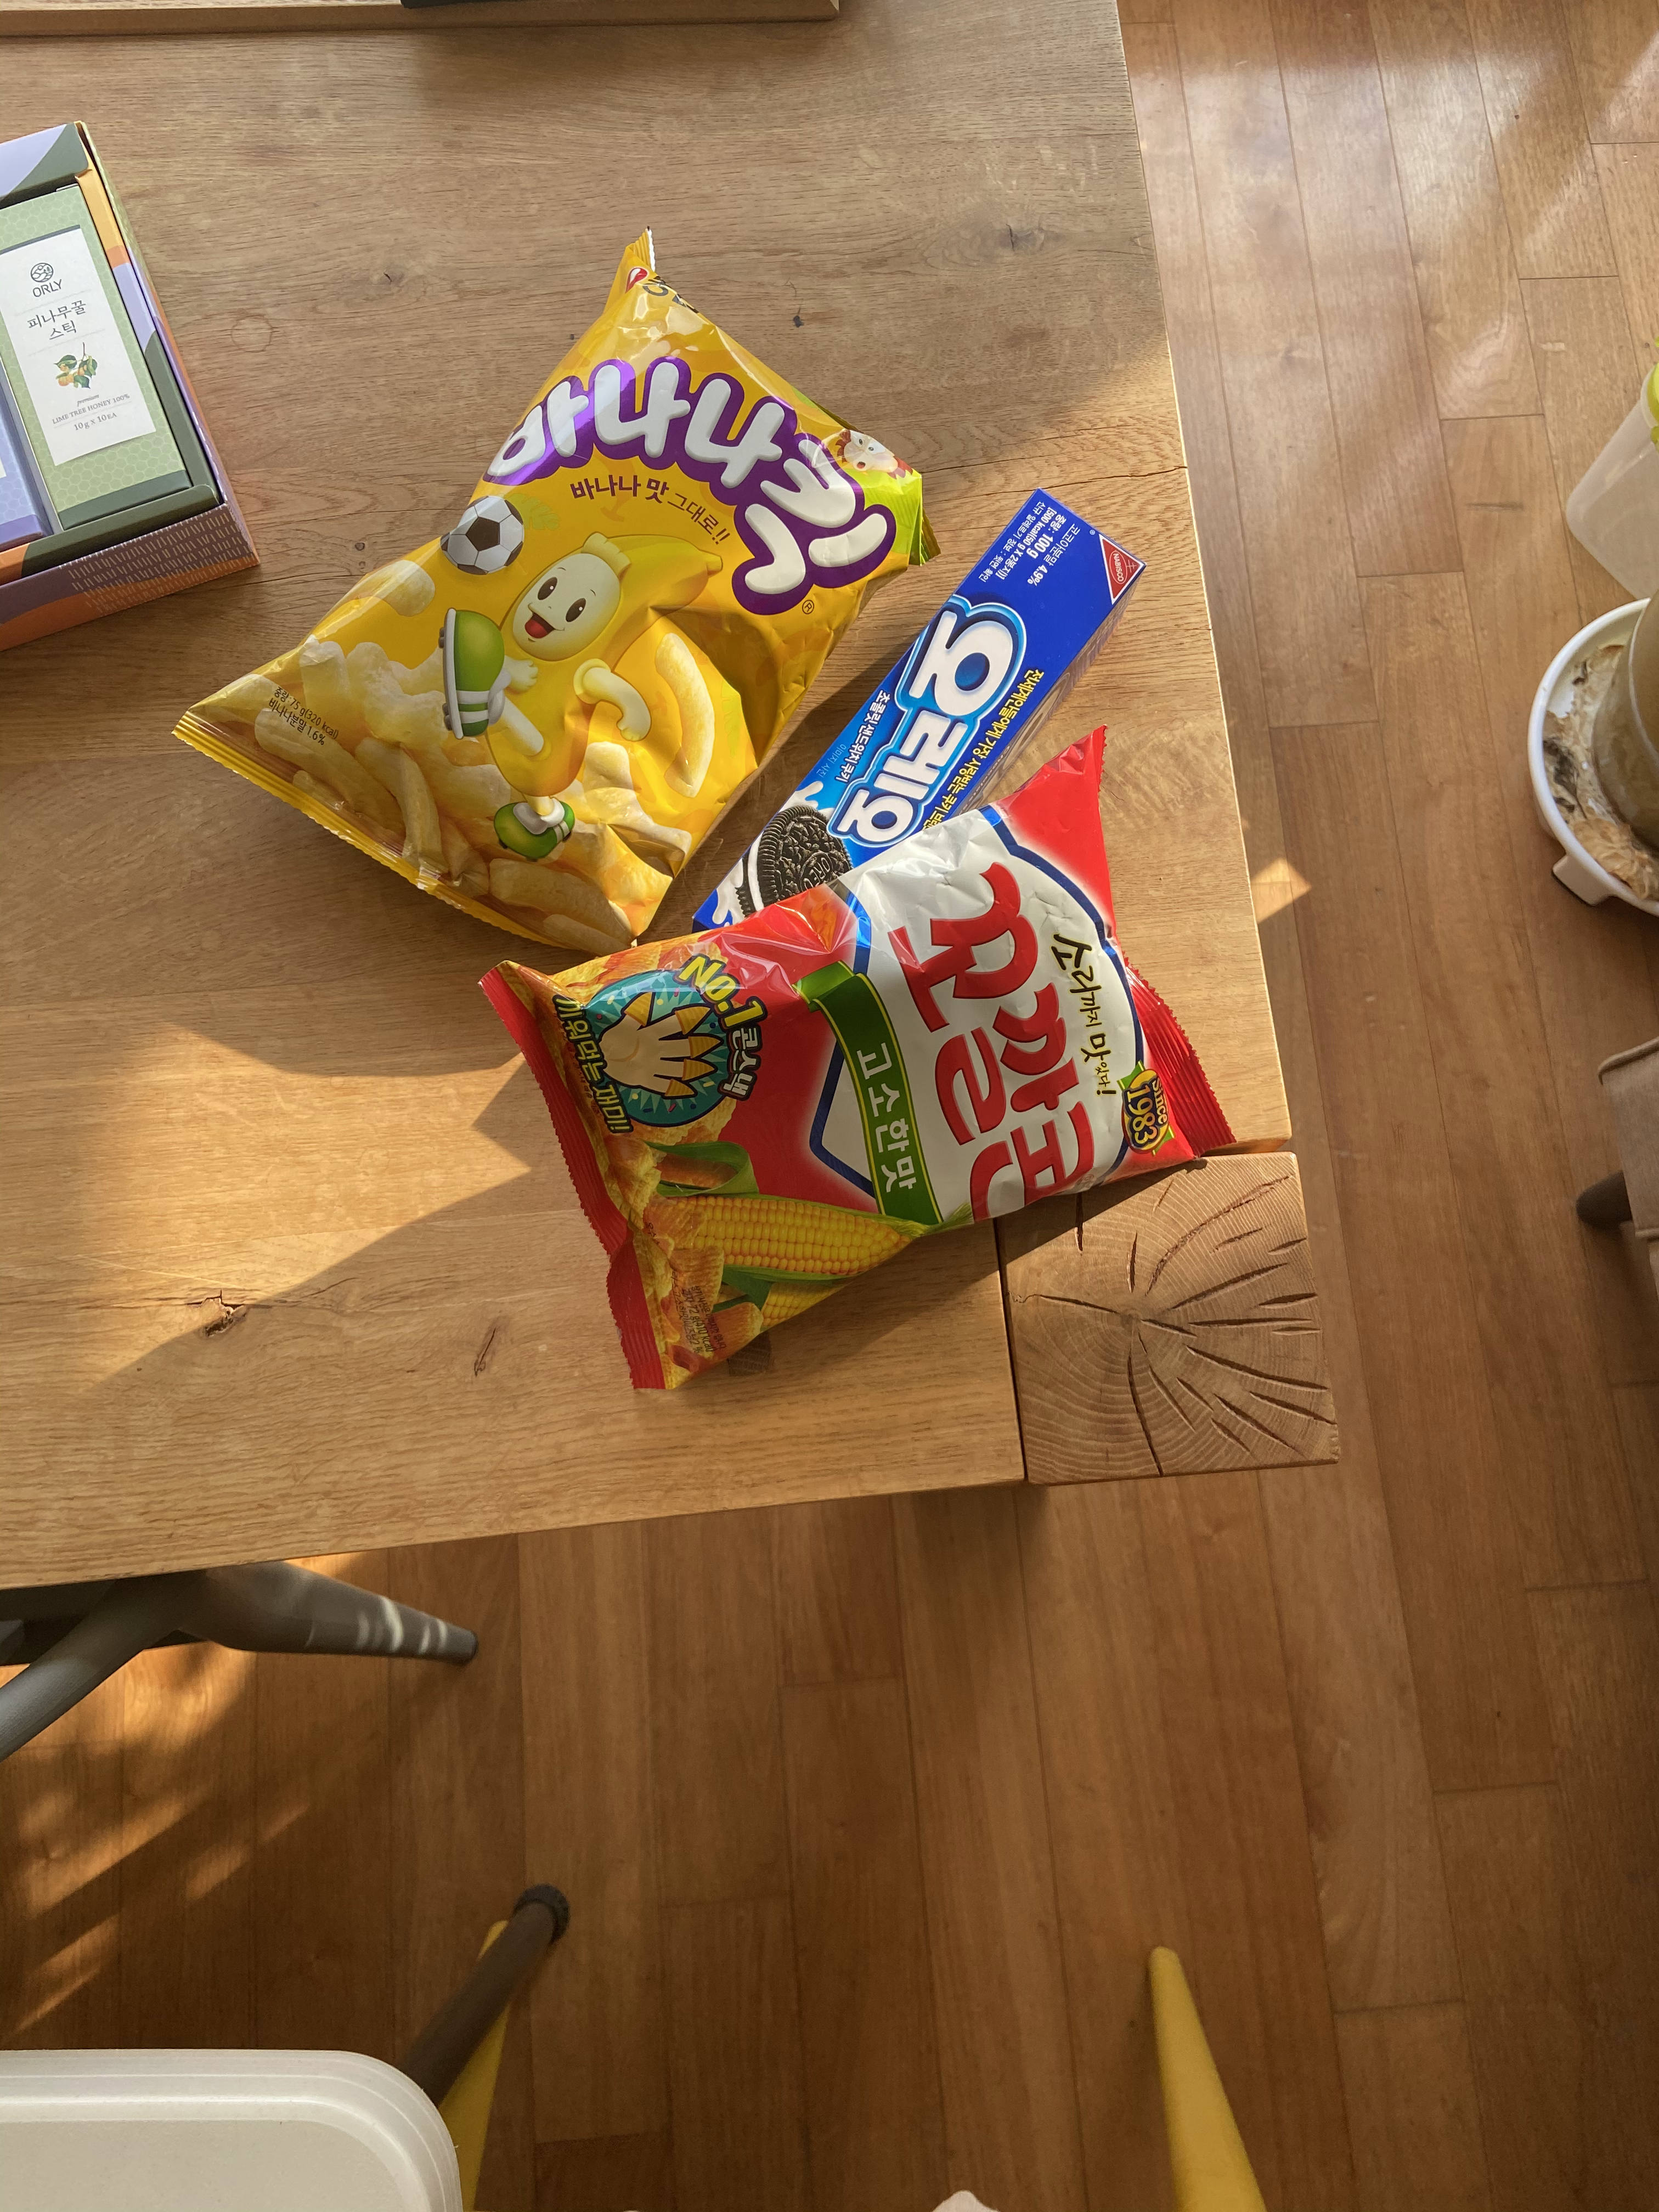banana: (173, 212, 955, 1015)
ggoggalcon: (455, 726, 1249, 1420)
oreo: (671, 472, 1164, 1104)
